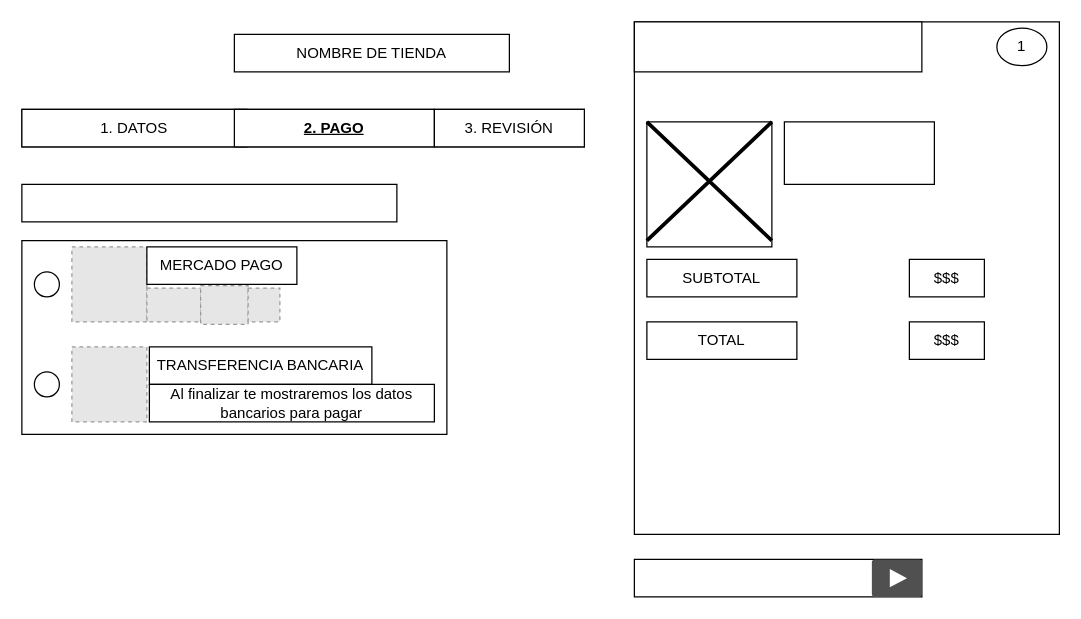
Some shapes in this 1081 by 619 pixel diagram are drawn without their labels. Grey dashed boxes stand in for pictures. The shapes that lost their labels are listed below. From the top down, each one's box as (x1, y1, x2, y2) in pixels, then its label:
(633, 21, 922, 72): MI COMPRA
(783, 121, 934, 184): DESCRIPCIÓN DEL PRODUCTO
(21, 183, 397, 222): Seleccioná como queres pagar tu compra
(633, 558, 922, 597): SEGUIR COMPRANDO
